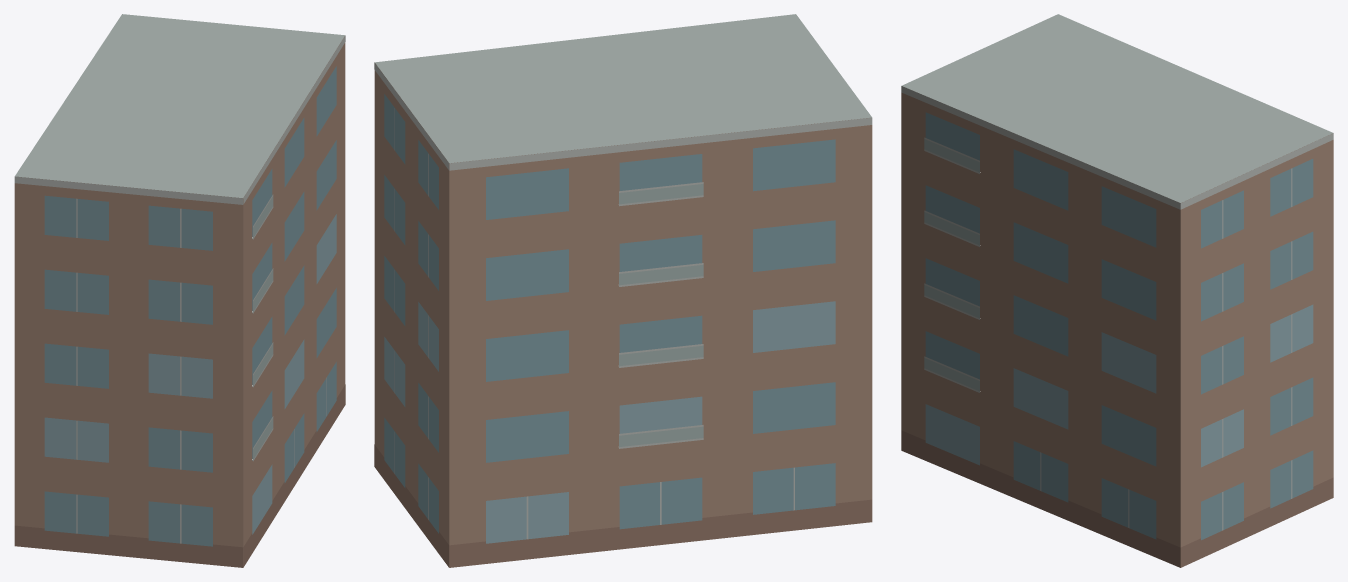
File: survey-upis-32988902.glb
The picture shows the model from 3 angles, left to right: view 1: azimuth 30°, elevation 25°; view 2: azimuth 150°, elevation 25°; view 3: azimuth 270°, elevation 25°; orthographic projection. The views are drawn at different scales.
Parts seen in each view (by area): view 1: survey-upis-32988902.tmp; view 2: survey-upis-32988902.tmp; view 3: survey-upis-32988902.tmp.
Boxes of the visible parts, x1,y1,x2,y2 form: survey-upis-32988902.tmp: (14,14,345,567); survey-upis-32988902.tmp: (374,14,872,567); survey-upis-32988902.tmp: (901,14,1333,567).
Size of the model in its own units: 14.79 by 13.3 by 14.29.
